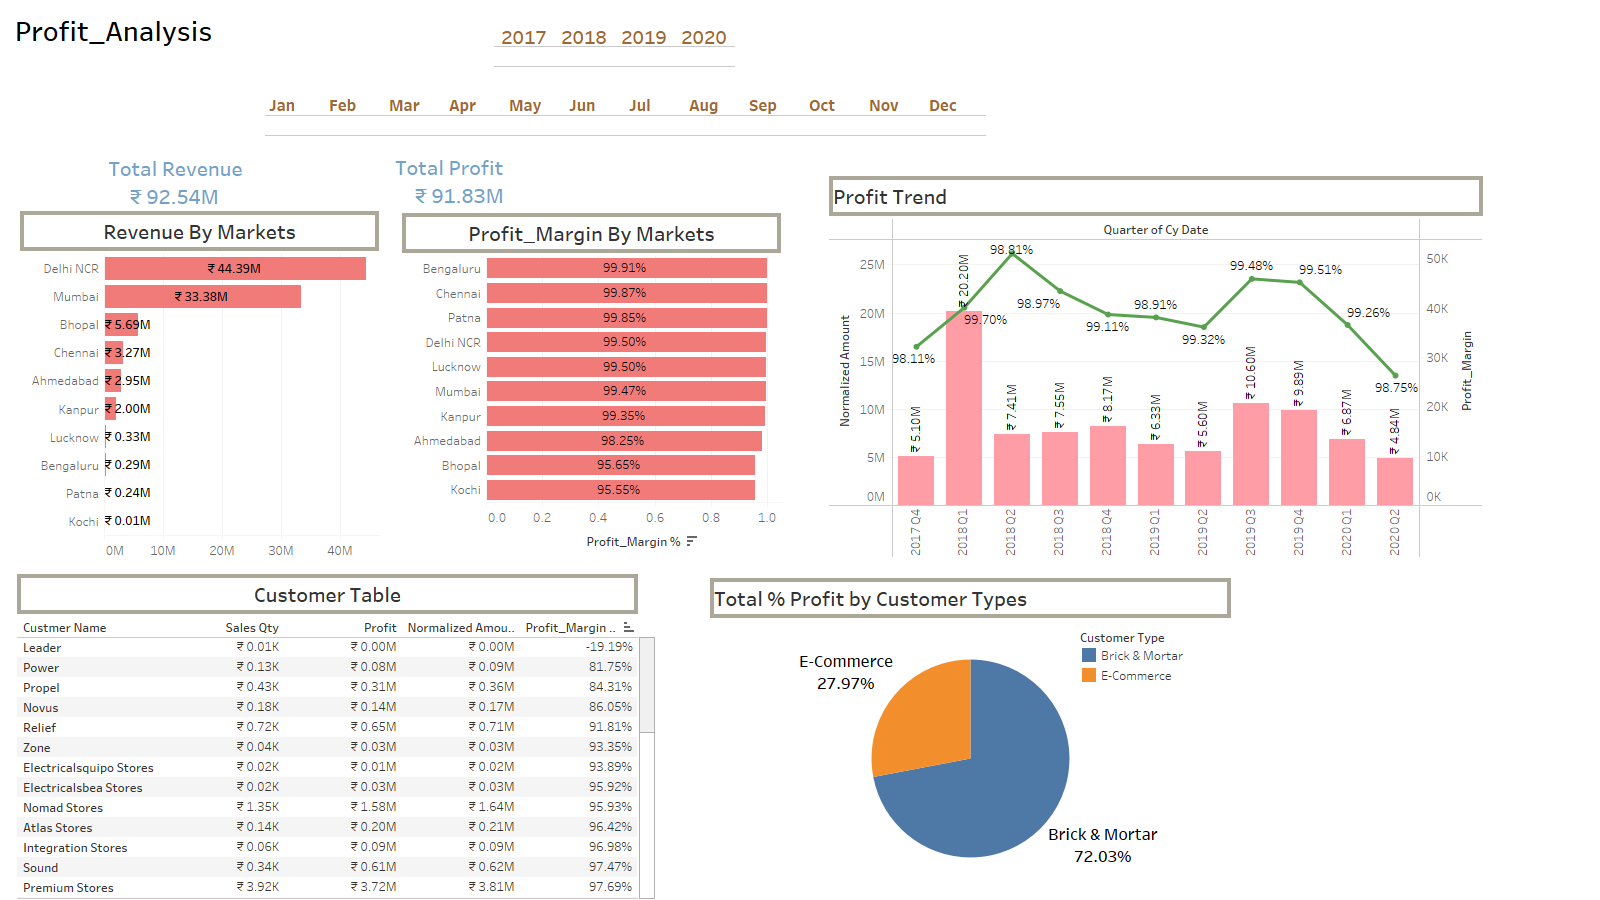

What the dashboard file says about the page in this screenshot:
{"tool":"tableau","page":{"name":"Profit_Analysis","canvas":[1600,900],"ordinal":0},"visuals":[{"type":"title","box":[8,8,1584,45]},{"type":"worksheet","title":"Years","mark":"Automatic","cols":["cy_date"],"box":[494,11,252,68]},{"type":"worksheet","title":"Months","mark":"Automatic","cols":["cy_date"],"box":[264.5,80,770.1,68]},{"type":"worksheet","title":"Profit","mark":"Automatic","box":[388,139,164,74]},{"type":"worksheet","title":"Revenue","mark":"Automatic","box":[94,140,177,75]},{"type":"worksheet","title":"Profit Trend","mark":"Automatic","rows":["Calculation_632755771746697216","Profit_Margin"],"cols":["cy_date"],"box":[829,176,654,382]},{"type":"worksheet","title":"Revenue By Markets","mark":"Automatic","rows":["markets_name"],"cols":["Calculation_632755771746697216"],"box":[20,211,359,359]},{"type":"worksheet","title":"Profit_Margin By Markets ","mark":"Automatic","rows":["markets_name"],"cols":["Calculation_394909416780500992"],"box":[402,213,379,344]},{"type":"worksheet","title":"Customer Table","mark":"Automatic","rows":["custmer_name"],"box":[17,574,639,325]},{"type":"worksheet","title":"Total % Profit by Customer Types","mark":"Pie","box":[710,578,521,318]},{"type":"legend","title":"Total % Profit by Customer Types","param":"[federated.1cw4mae0o3i94r0zrr3e00johxlv].[none:customer_type:nk]","box":[1079,627,140,76]}]}

Visuals, with their boxes in screenshot pixels (x1, y1, x2, y2), scaled from the page's 1600x900 canvas onto the 1600x900 screenshot:
title: bbox(8, 8, 1592, 53)
"Years" worksheet: bbox(494, 11, 746, 79)
"Months" worksheet: bbox(264, 80, 1035, 148)
"Profit" worksheet: bbox(388, 139, 552, 213)
"Revenue" worksheet: bbox(94, 140, 271, 215)
"Profit Trend" worksheet: bbox(829, 176, 1483, 558)
"Revenue By Markets" worksheet: bbox(20, 211, 379, 570)
"Profit_Margin By Markets " worksheet: bbox(402, 213, 781, 557)
"Customer Table" worksheet: bbox(17, 574, 656, 899)
"Total % Profit by Customer Types" worksheet (Pie marks): bbox(710, 578, 1231, 896)
"Total % Profit by Customer Types" legend: bbox(1079, 627, 1219, 703)
